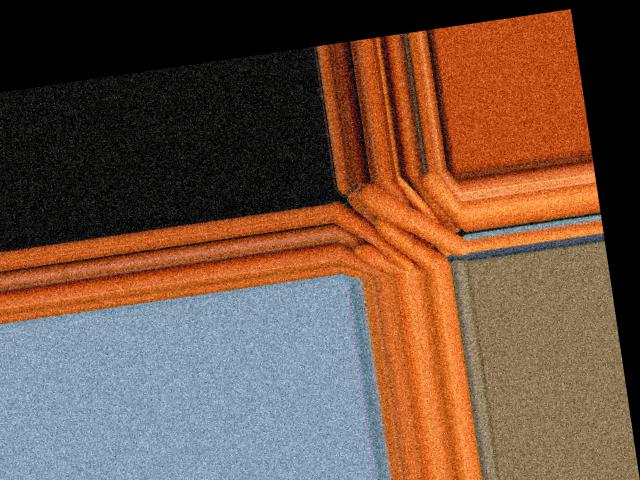carrot: (331, 199, 410, 278)
